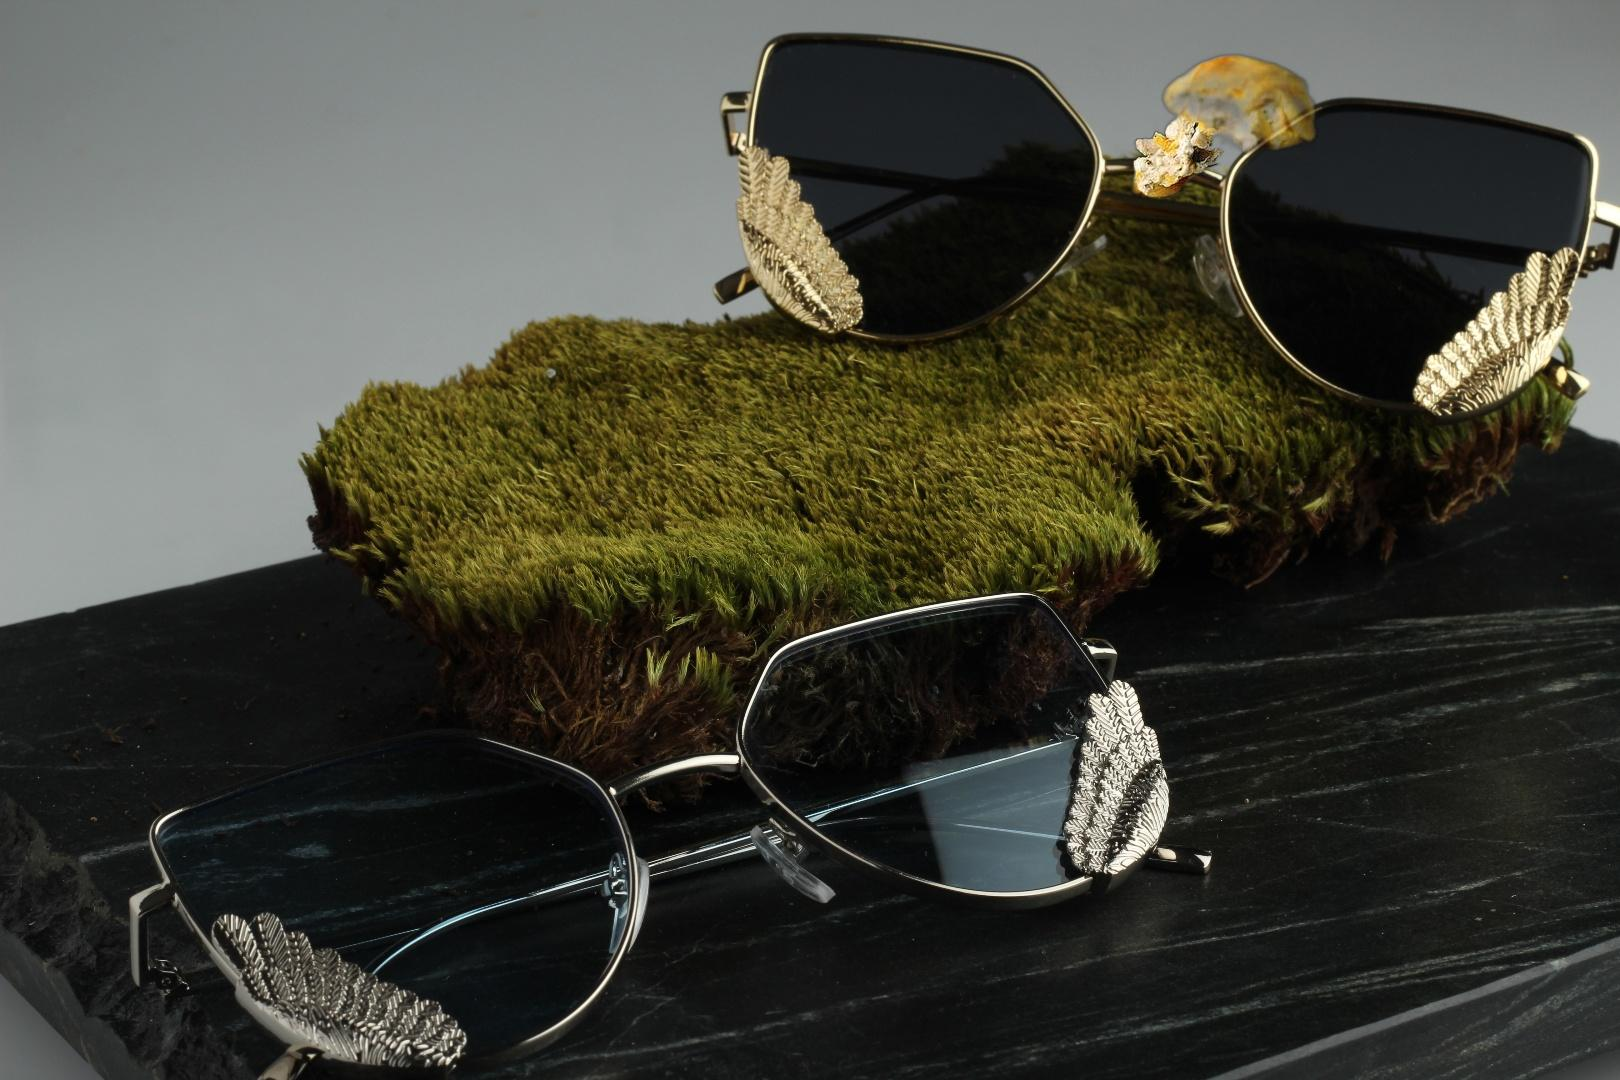biological: (1032, 45, 1336, 242)
